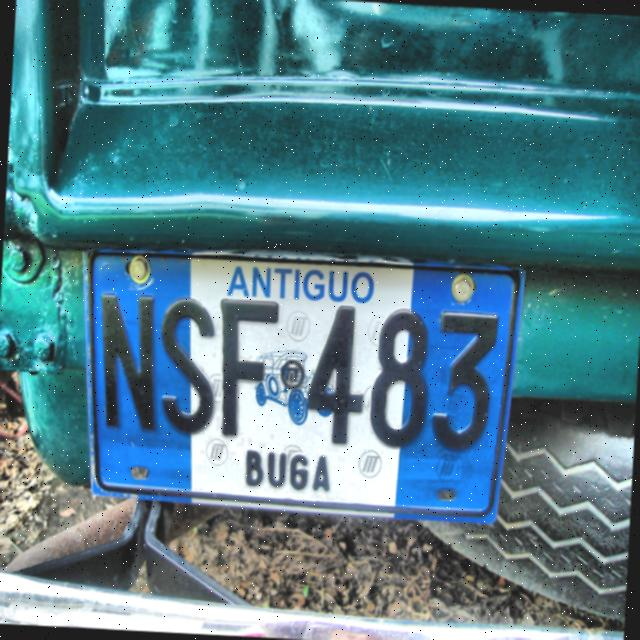3: (429, 304, 501, 456)
4: (304, 301, 374, 448)
8: (366, 306, 434, 452)
F: (213, 296, 282, 442)
N: (96, 291, 163, 440)
S: (159, 289, 218, 446)
